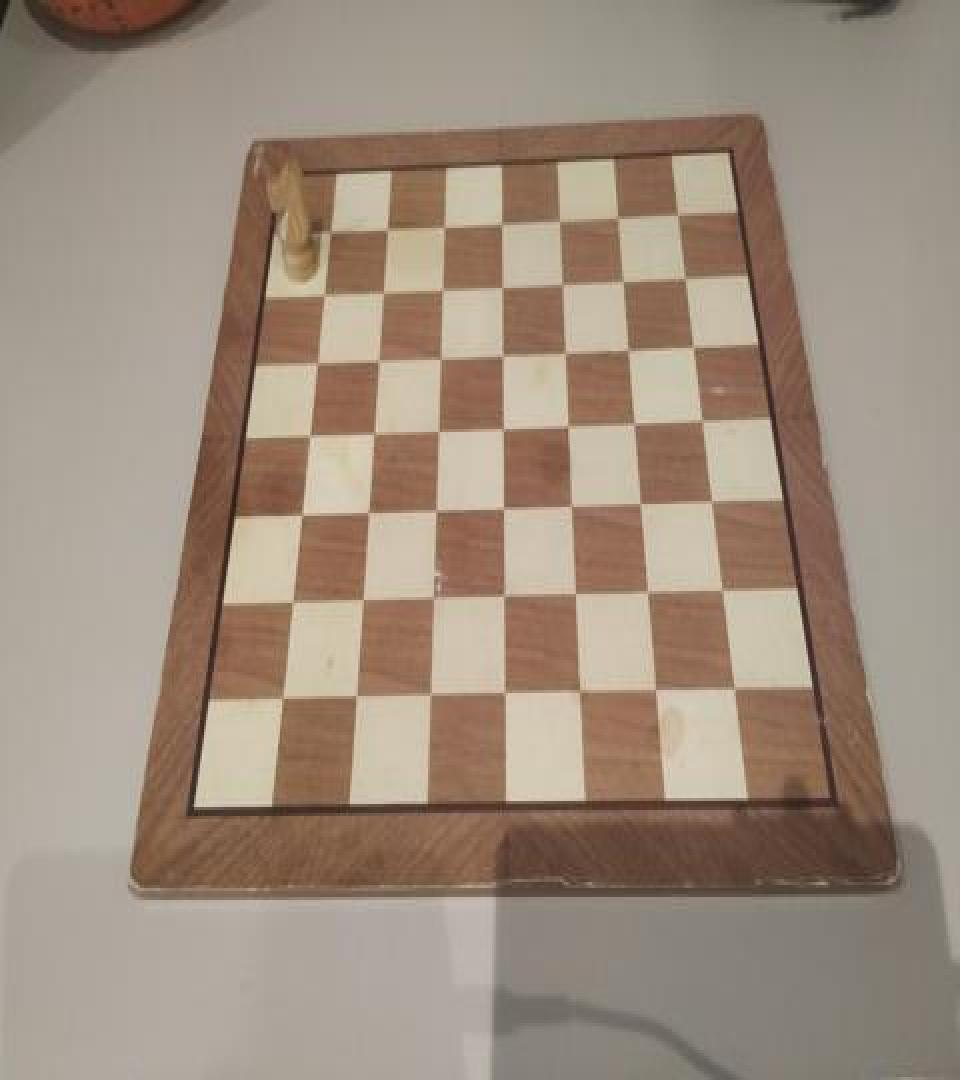xcorner: (289, 499, 309, 530), (270, 687, 290, 717), (346, 684, 366, 714), (498, 681, 518, 711), (575, 678, 595, 708), (652, 676, 672, 706), (730, 675, 750, 705), (280, 588, 300, 618), (424, 584, 444, 614), (497, 582, 517, 612), (570, 579, 590, 609), (643, 578, 663, 608), (717, 574, 737, 604), (358, 496, 378, 526), (427, 495, 447, 525), (496, 492, 516, 522), (565, 490, 585, 520), (635, 488, 655, 518), (705, 486, 725, 516), (297, 418, 317, 448), (363, 416, 383, 446), (429, 412, 449, 442), (495, 411, 515, 441), (561, 408, 581, 438), (628, 406, 648, 436), (695, 404, 715, 434), (305, 344, 325, 374), (368, 342, 388, 372), (431, 339, 451, 369), (494, 336, 514, 366), (557, 334, 577, 364), (621, 332, 641, 362), (685, 330, 705, 360), (312, 276, 332, 306), (372, 273, 392, 303), (432, 272, 452, 302), (493, 268, 513, 298), (554, 266, 574, 296), (615, 264, 635, 294), (676, 261, 696, 291), (318, 213, 338, 243), (376, 210, 396, 240), (434, 208, 454, 238), (492, 206, 512, 236), (551, 204, 571, 234), (609, 201, 629, 231), (668, 198, 688, 228), (422, 683, 442, 712), (352, 587, 372, 616)
